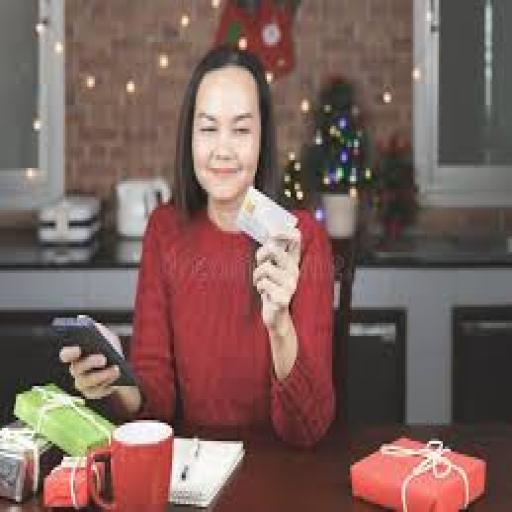phone: (57, 319, 143, 393)
red mug: (87, 421, 173, 511)
